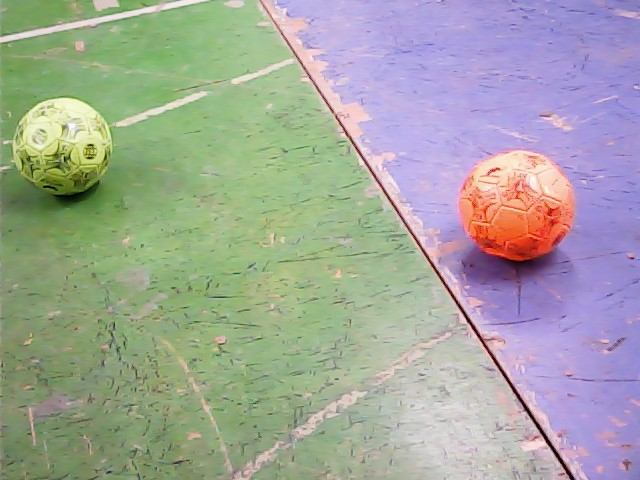Green_ball: (14, 94, 121, 201)
Orange_ball: (454, 136, 582, 264)
